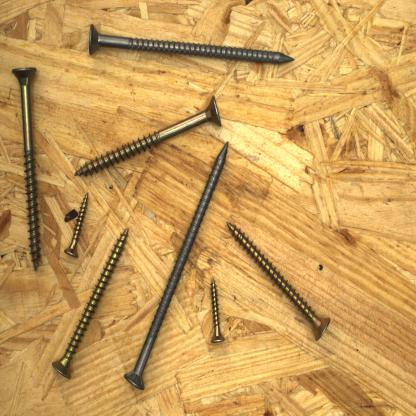screw: (122, 141, 232, 394), (226, 218, 334, 344), (72, 92, 224, 178), (51, 224, 131, 382), (88, 22, 296, 66), (10, 64, 45, 272), (63, 190, 90, 261), (210, 274, 224, 346)
